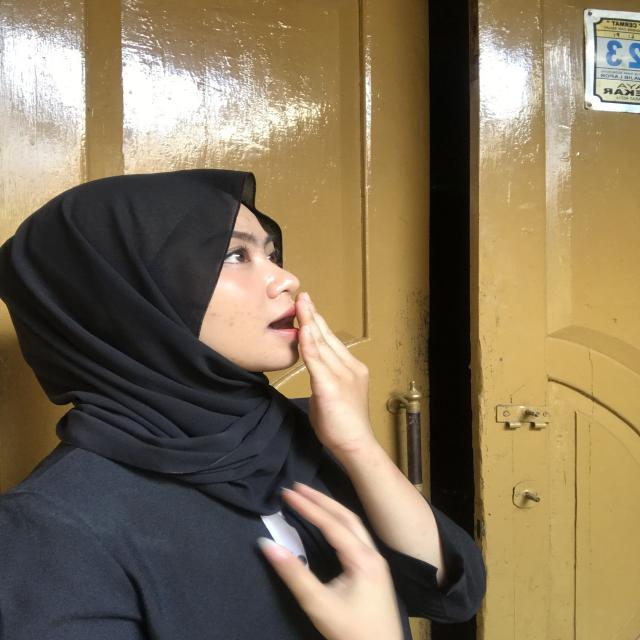ngantuk: (257, 276, 386, 468)
